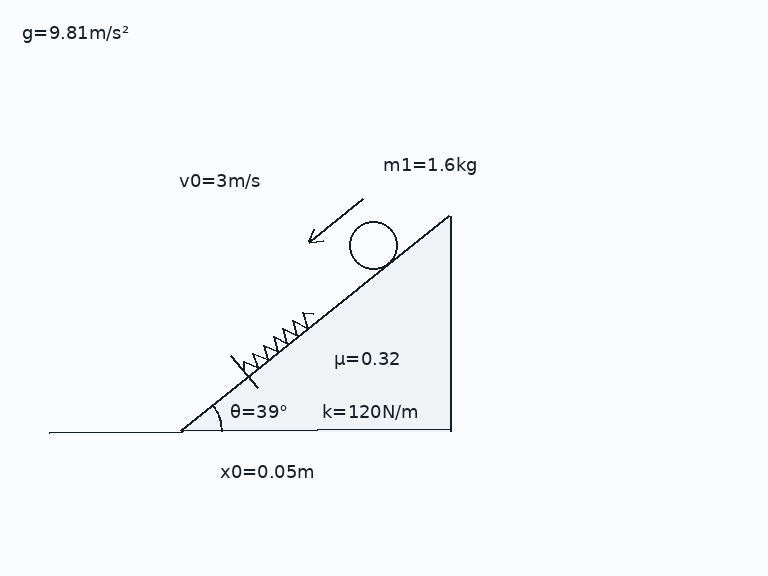ball: (347, 219, 399, 271)
ramp: (180, 213, 451, 433)
spring: (241, 310, 315, 372)
